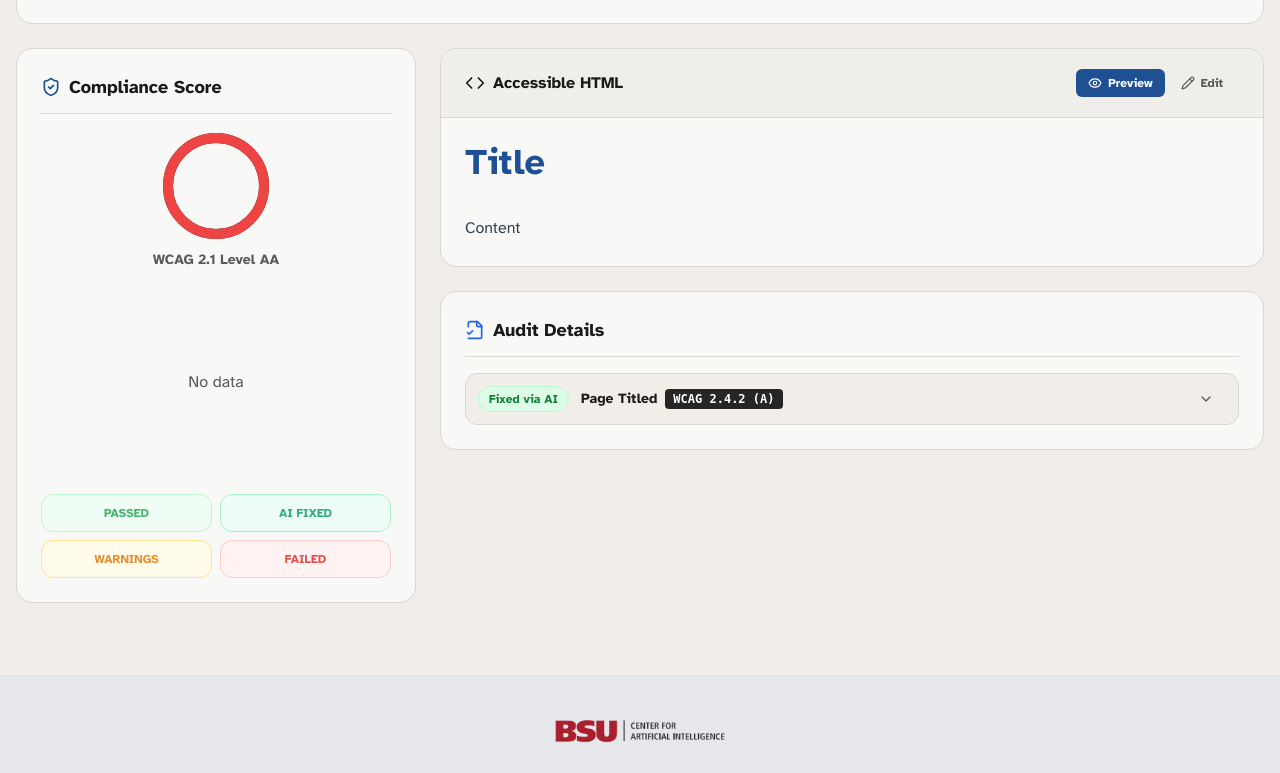
PdfConversion results page - page title notes › labels the generic-fallback note distinctly from a low-quality-title note
(page scrolled)
Step 1. Click the button with test id "issue-toggle-0" → click(524, 399), box [466,374,1226,424]
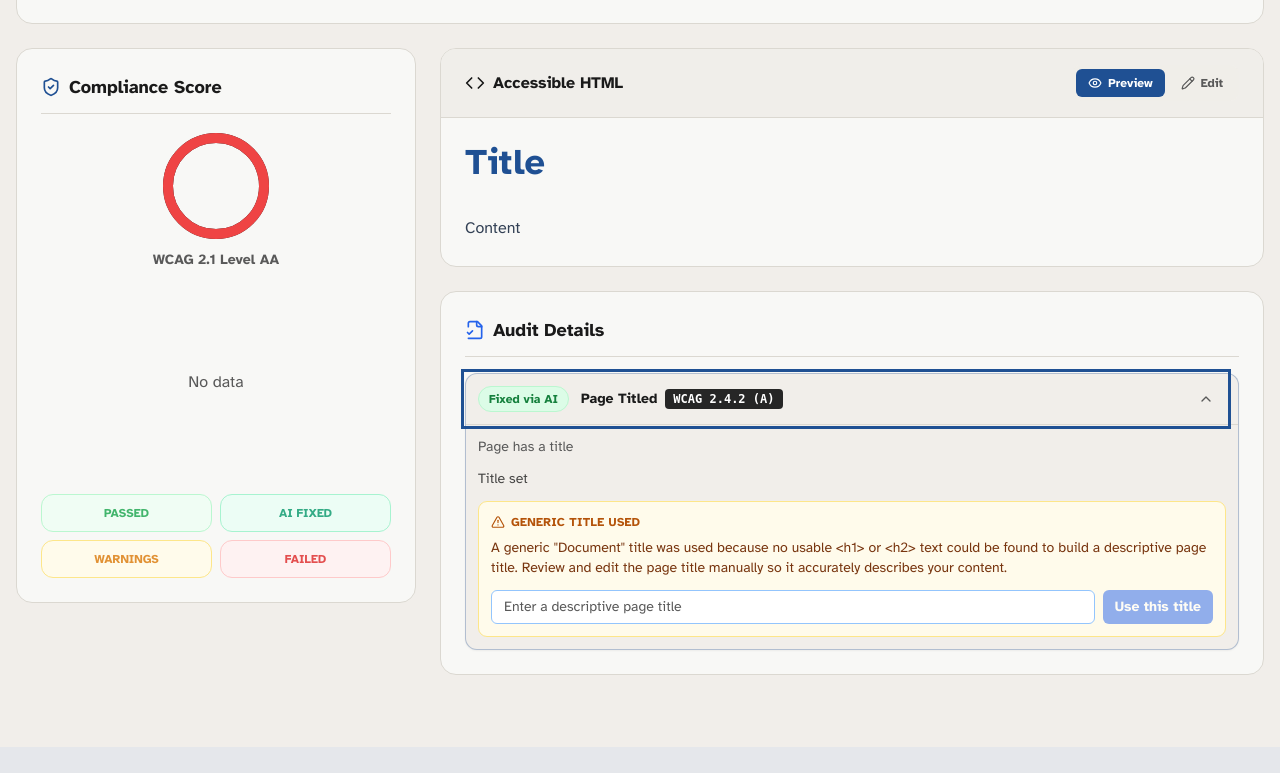
Expected: the element with test id "page-title-fix-notes-0" is shown, [478,501,1226,637]
Expected: the element with test id "page-title-fix-notes-0" shows "Generic Title Used", [511,515,640,529]
